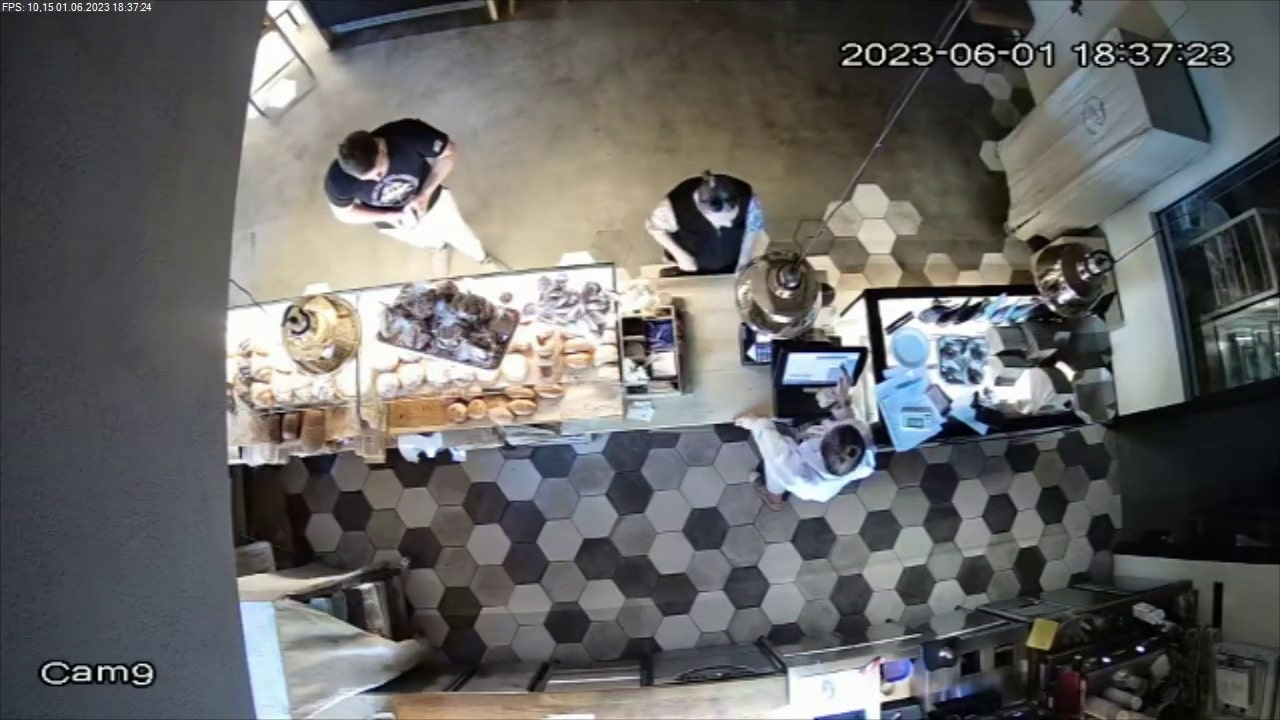barcounter: (230, 280, 1110, 444)
person: (295, 108, 493, 262), (749, 391, 897, 511), (652, 161, 766, 270)
